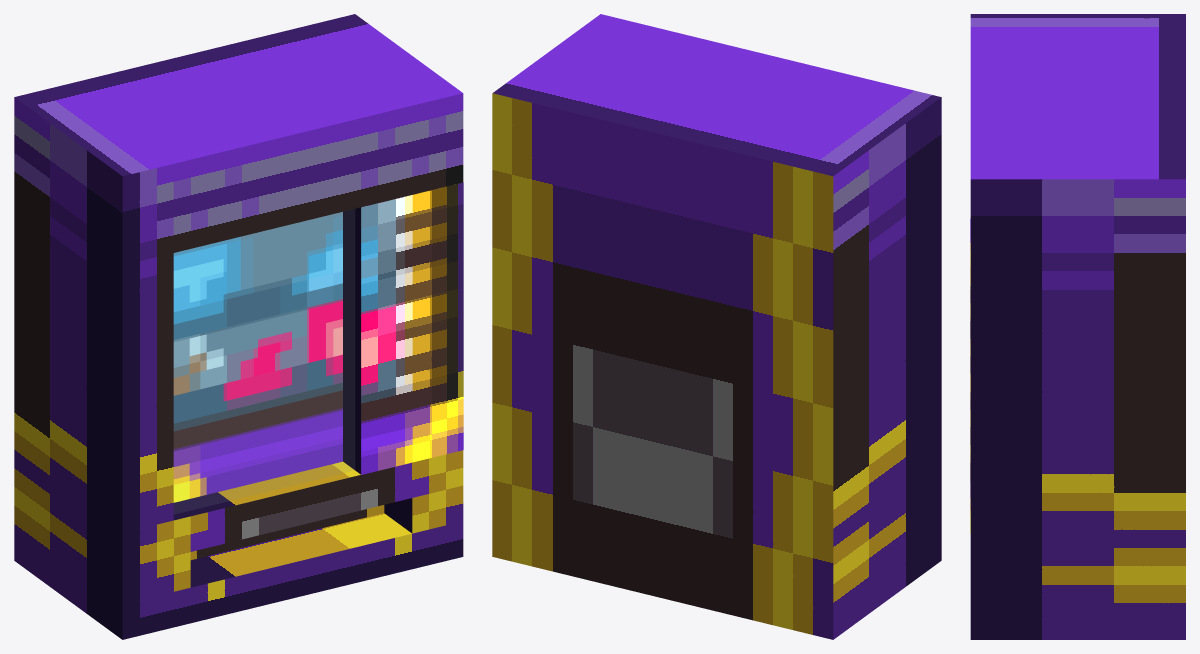
The model's file is vending_magivend.glb.
The picture shows the model from 3 angles, left to right: view 1: azimuth 30°, elevation 25°; view 2: azimuth 150°, elevation 25°; view 3: azimuth 270°, elevation 25°; orthographic projection.
Parts seen in each view (by area): view 1: vending_magivend_Cabinet, vending_magivend, vending_magivend_Display_Glass, vending_magivend_Delivery_Flap; view 2: vending_magivend_Cabinet; view 3: vending_magivend_Cabinet.
Boxes of the visible parts, bbox=[...] form: vending_magivend_Cabinet: bbox=[14, 14, 463, 639]; vending_magivend: bbox=[173, 182, 463, 502]; vending_magivend_Display_Glass: bbox=[174, 209, 354, 513]; vending_magivend_Delivery_Flap: bbox=[190, 505, 384, 559]; vending_magivend_Cabinet: bbox=[492, 14, 941, 639]; vending_magivend_Cabinet: bbox=[970, 14, 1185, 639].
Size of the model in its own units: 1.2 by 1.56 by 0.662.
Materials: 4 (3 with a texture image).
